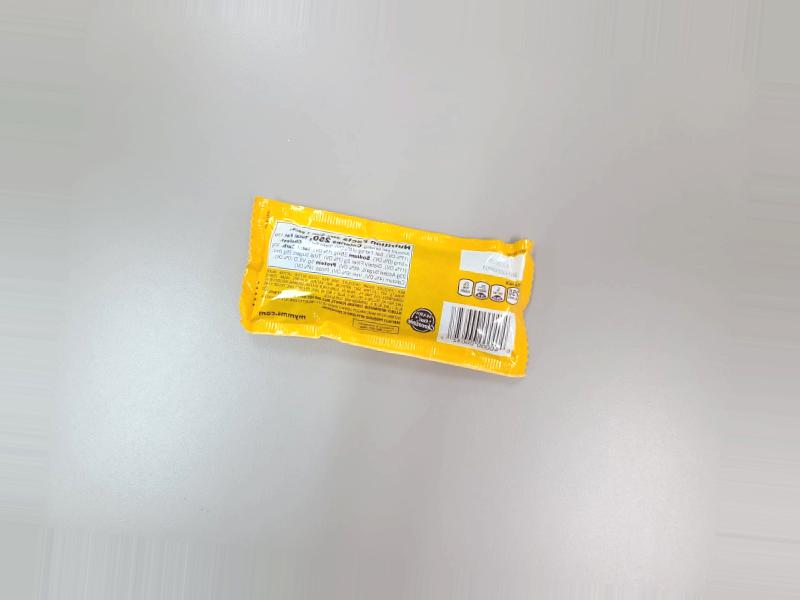m&m: (243, 208, 533, 388)
